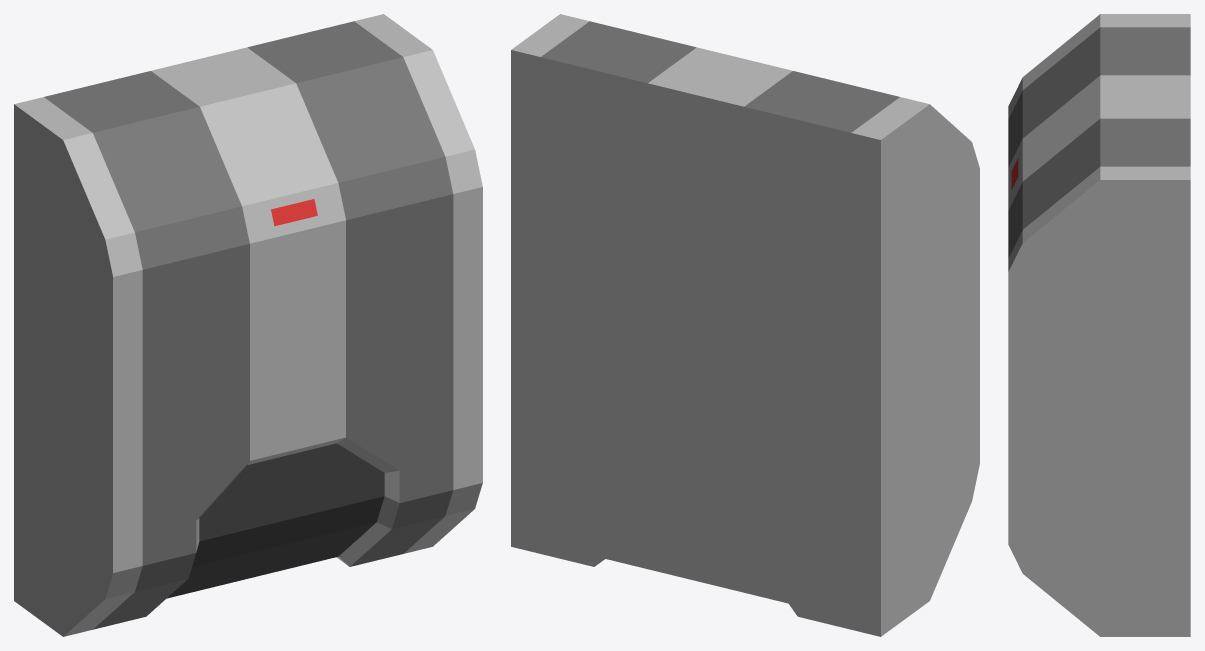
File: space_station_decoration_016.fbx
The picture shows the model from 3 angles, left to right: view 1: azimuth 30°, elevation 25°; view 2: azimuth 150°, elevation 25°; view 3: azimuth 270°, elevation 25°; orthographic projection. The views are drawn at different scales.
Visible parts, largest first — view 1: space_station_decoration_016; view 2: space_station_decoration_016; view 3: space_station_decoration_016.
Part boxes in pixels (x1,y1,x2,y2): space_station_decoration_016: [14, 14, 482, 636]; space_station_decoration_016: [511, 14, 979, 636]; space_station_decoration_016: [1008, 14, 1190, 636].
Bounding box in the file's own units: 356 × 165 × 458.
